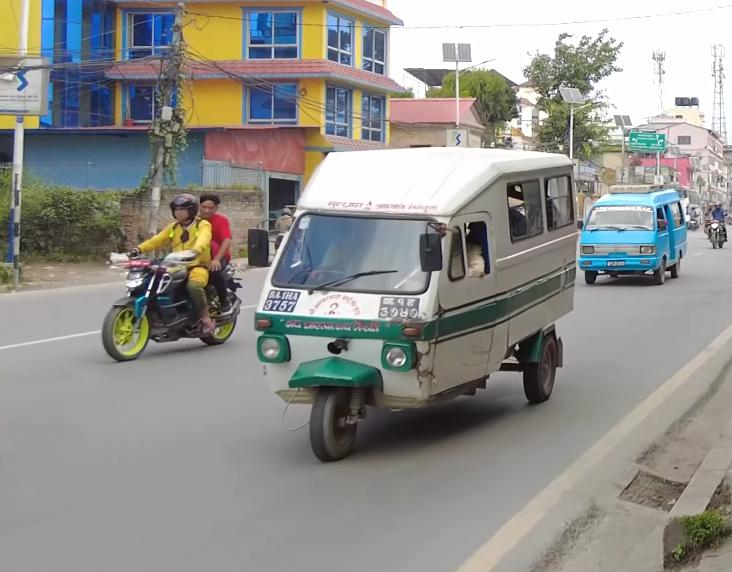bike: (96, 230, 247, 370), (700, 208, 731, 253)
tempo: (246, 136, 583, 456)
van: (574, 182, 692, 293)
